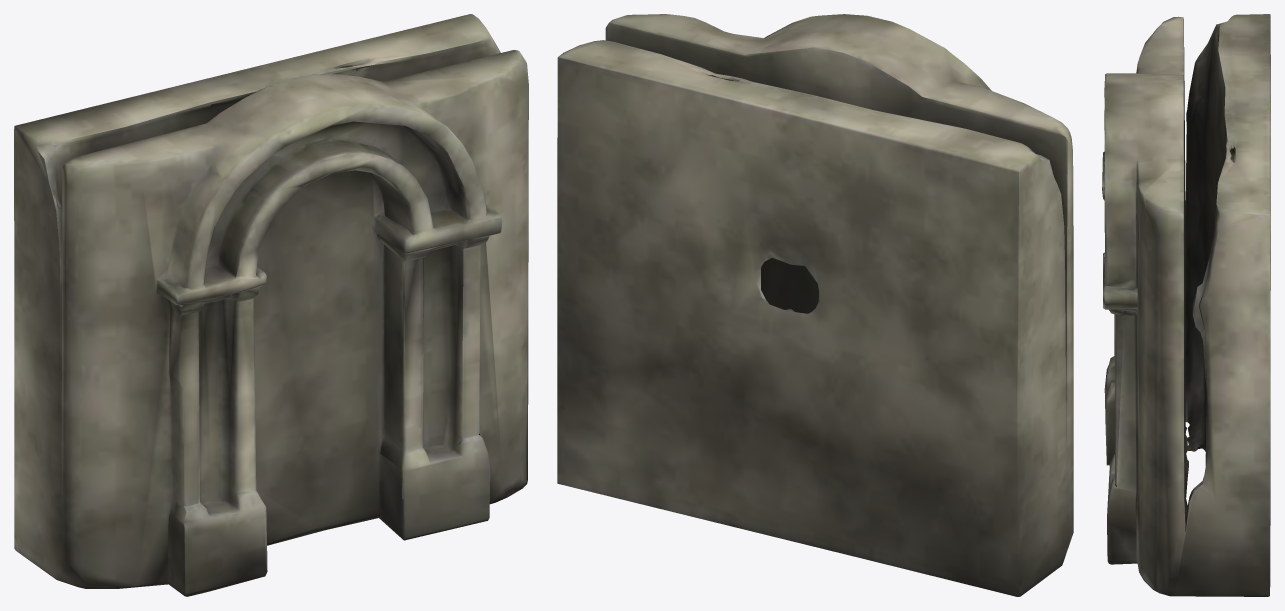
Rendered from simple-limestone-street-arch-v001.glb.
The picture shows the model from 3 angles, left to right: view 1: azimuth 30°, elevation 25°; view 2: azimuth 150°, elevation 25°; view 3: azimuth 270°, elevation 25°; orthographic projection. The views are drawn at different scales.
Parts seen in each view (by area): view 1: simple-limestone-street-arch; view 2: simple-limestone-street-arch; view 3: simple-limestone-street-arch.
Part boxes in pixels (x1,y1,x2,y2): simple-limestone-street-arch: (14, 14, 528, 596); simple-limestone-street-arch: (557, 14, 1073, 596); simple-limestone-street-arch: (1102, 14, 1270, 596).
Bounding box in the file's own units: 3.78 × 3.55 × 1.34.
1 material, 1 textured.
